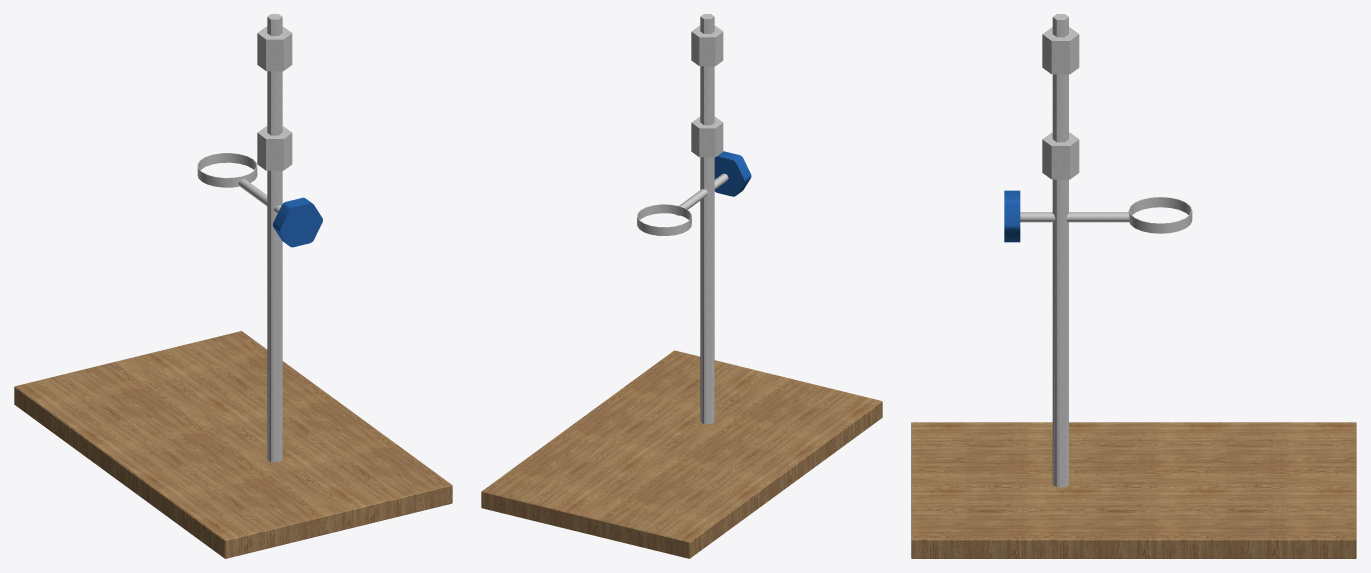
Rendered from SM_过滤装置.FBX.
3 renders of one model, left to right at view 1: azimuth 30°, elevation 25°; view 2: azimuth 150°, elevation 25°; view 3: azimuth 270°, elevation 25°, orthographic. The views are drawn at different scales.
Parts seen in each view (by area): view 1: SM_过滤装置; view 2: SM_过滤装置; view 3: SM_过滤装置.
Boxes of the visible parts, left/top/right/bottom form: SM_过滤装置: left=14, top=14, right=452, bottom=558; SM_过滤装置: left=481, top=14, right=882, bottom=558; SM_过滤装置: left=911, top=14, right=1356, bottom=558.
Bounding box in the file's own units: 145 × 280 × 233.
